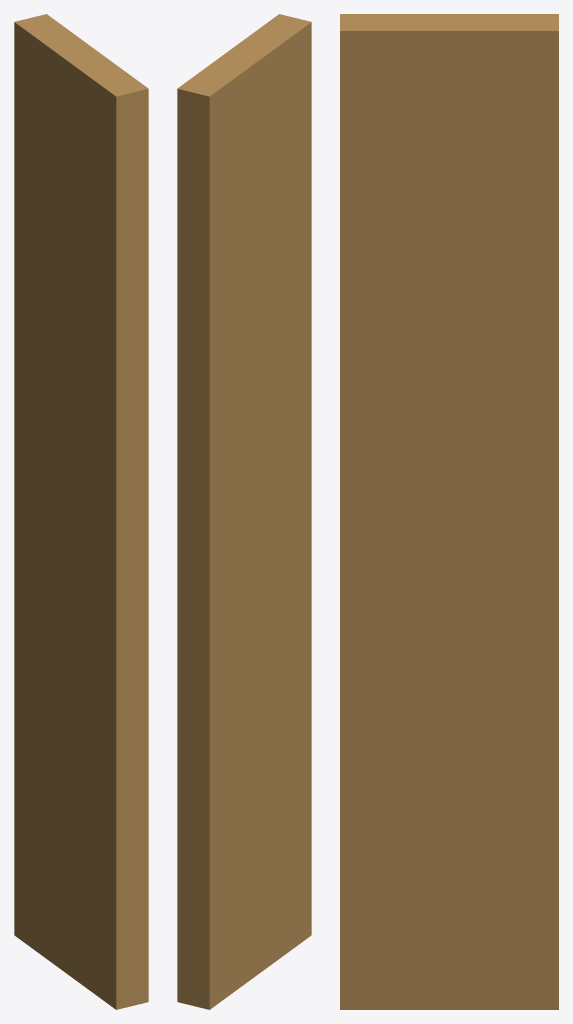
The picture shows the model from 3 angles, left to right: view 1: azimuth 30°, elevation 25°; view 2: azimuth 150°, elevation 25°; view 3: azimuth 270°, elevation 25°; orthographic projection. The views are drawn at different scales.
Visible parts, largest first — view 1: FF-W144; view 2: FF-W144; view 3: FF-W144.
Boxes of the visible parts, box(x1,y1,x2,y2) form: FF-W144: box(14, 14, 148, 1009); FF-W144: box(177, 14, 311, 1009); FF-W144: box(340, 14, 558, 1009).
Size of the model in its own units: 0.09 by 2.42 by 0.49.
